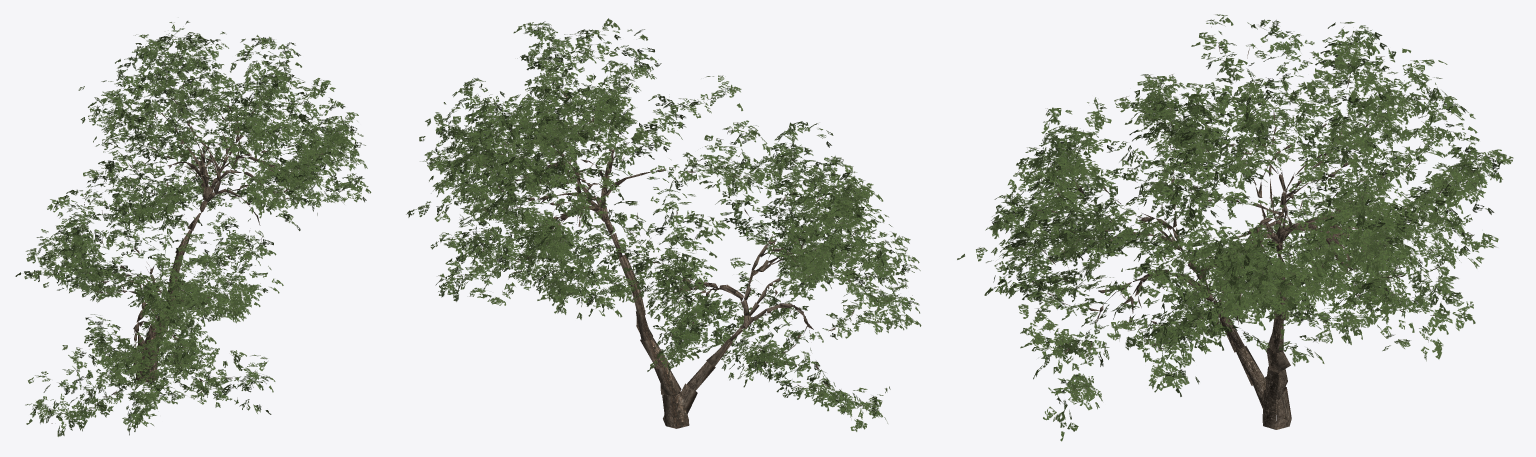
The model's file is liveoak_a.glb.
The picture shows the model from 3 angles, left to right: view 1: azimuth 30°, elevation 25°; view 2: azimuth 150°, elevation 25°; view 3: azimuth 270°, elevation 25°; orthographic projection. The views are drawn at different scales.
Visible parts, largest first — view 1: foliage_w; view 2: foliage_w; view 3: foliage_w.
Boxes of the visible parts, bbox=[...] form: foliage_w: bbox=[15, 21, 371, 436]; foliage_w: bbox=[406, 18, 921, 431]; foliage_w: bbox=[957, 14, 1513, 441].
Bounding box in the file's own units: 15.87 × 13.46 × 15.44.
Materials: 2 (2 with a texture image).
